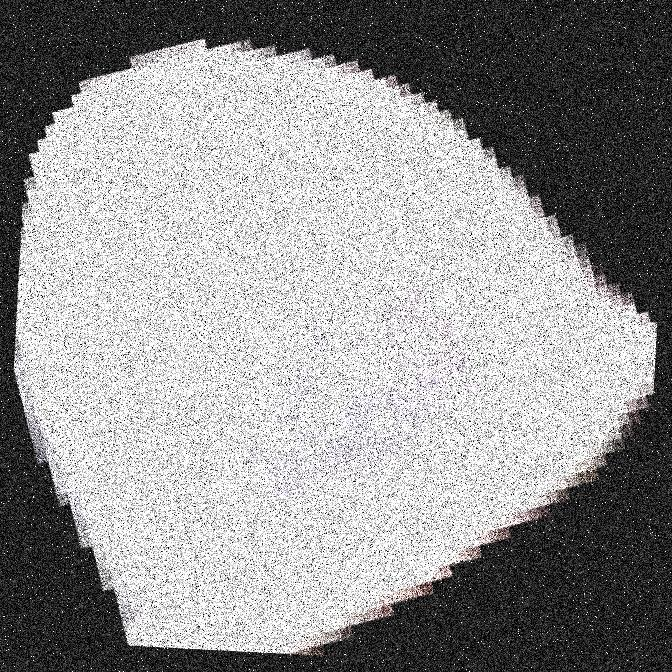Capacete: (64, 0, 372, 671)
